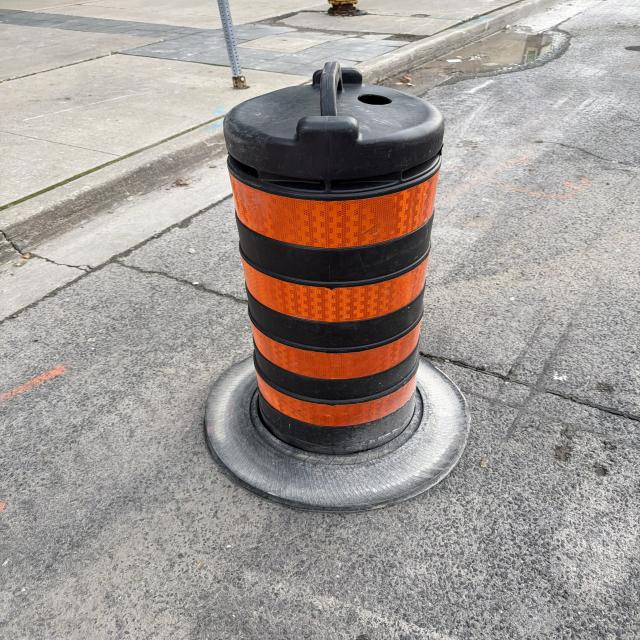Teraffic Barrel: (206, 62, 468, 510)
